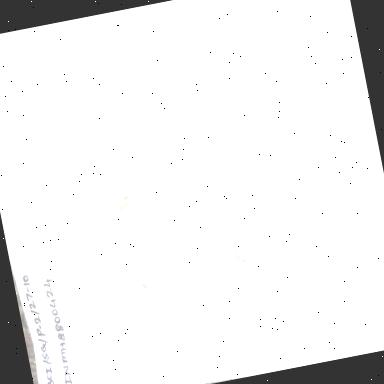pbw: (112, 186, 142, 222), (128, 104, 158, 136), (225, 237, 250, 272), (137, 272, 166, 300), (230, 144, 258, 170), (187, 87, 216, 111)
